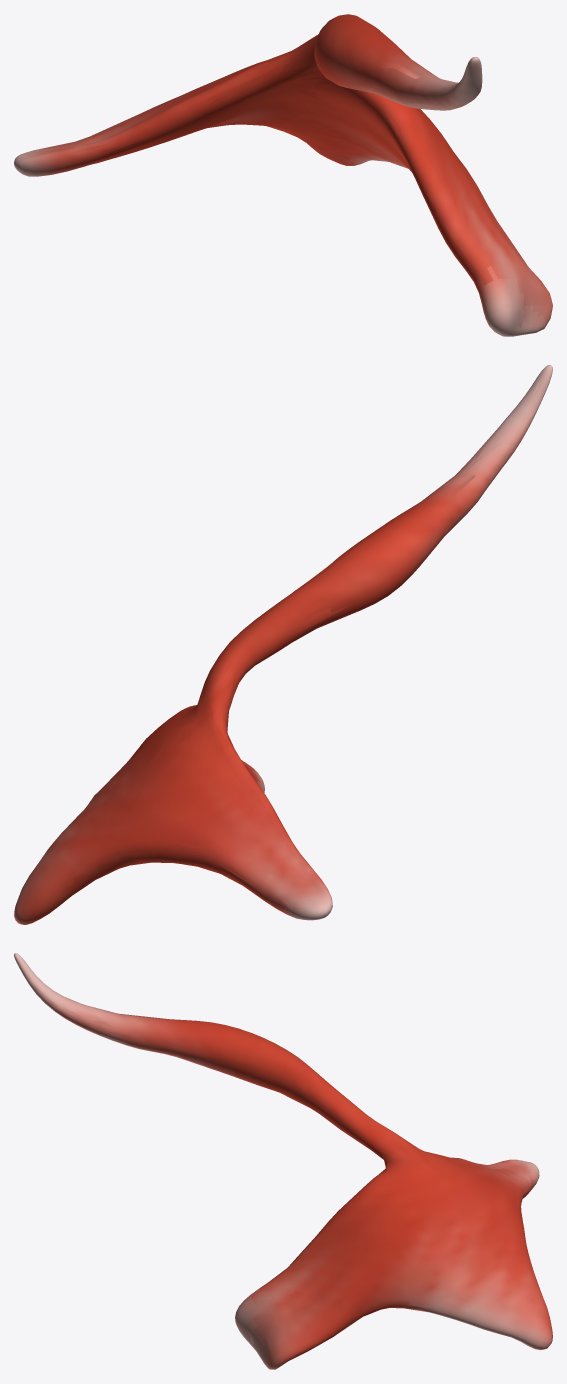
File: R Internal Obturator.fbx
3 renders of one model, top to bottom at view 1: azimuth 30°, elevation 25°; view 2: azimuth 150°, elevation 25°; view 3: azimuth 270°, elevation 25°, orthographic. The views are drawn at different scales.
Visible parts, largest first — view 1: R Internal Obturator, R Internal Obturator low; view 2: R Internal Obturator, R Internal Obturator low; view 3: R Internal Obturator, R Internal Obturator low.
Boxes of the visible parts, bbox=[...] form: R Internal Obturator: bbox=[14, 14, 552, 336]; R Internal Obturator low: bbox=[16, 14, 552, 335]; R Internal Obturator: bbox=[14, 365, 552, 924]; R Internal Obturator low: bbox=[15, 373, 549, 923]; R Internal Obturator: bbox=[14, 953, 552, 1369]; R Internal Obturator low: bbox=[24, 964, 552, 1368].
Size of the model in its own units: 16.35 by 19.81 by 29.24.
